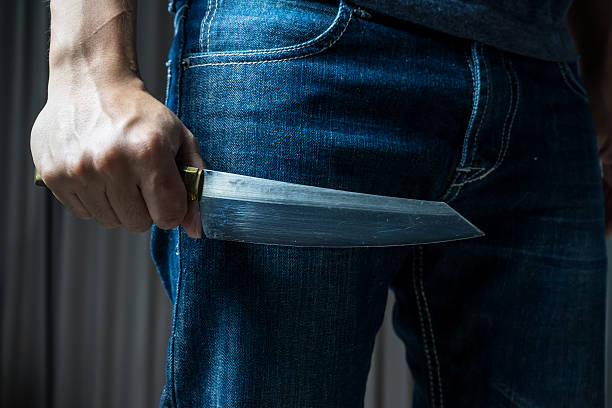knife: (32, 160, 486, 252)
